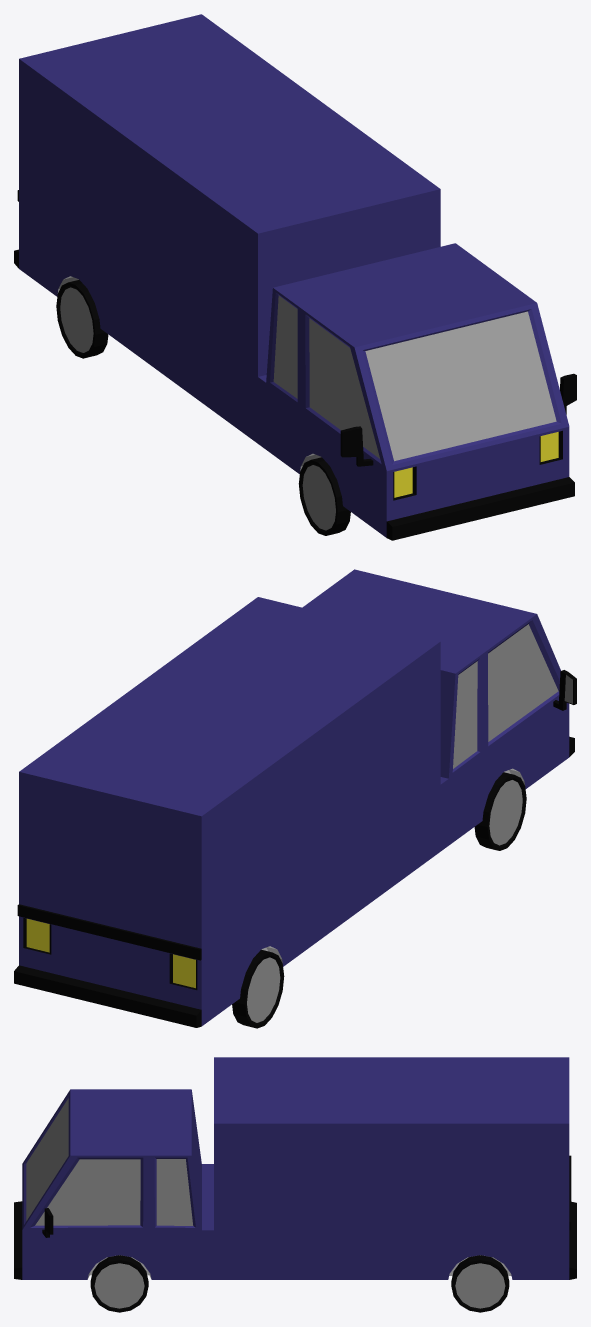
File: Delivery Truck 2.fbx
The picture shows the model from 3 angles, top to bottom: view 1: azimuth 30°, elevation 25°; view 2: azimuth 150°, elevation 25°; view 3: azimuth 270°, elevation 25°; orthographic projection. The views are drawn at different scales.
Visible parts, largest first — view 1: Delivery Truck Body.002, Wheel FR.020, Wheel RR.018; view 2: Delivery Truck Body.002, Wheel FR.020, Wheel RR.018; view 3: Delivery Truck Body.002, Wheel RL.018, Wheel FL.020.
Part boxes in pixels (x1,y1,x2,y2): Delivery Truck Body.002: (14, 14, 576, 540); Wheel FR.020: (298, 457, 350, 535); Wheel RR.018: (56, 280, 108, 358); Delivery Truck Body.002: (14, 569, 576, 1027); Wheel FR.020: (474, 772, 526, 850); Wheel RR.018: (232, 949, 284, 1028); Delivery Truck Body.002: (14, 1057, 576, 1279); Wheel RL.018: (451, 1255, 509, 1312); Wheel FL.020: (90, 1255, 148, 1312).
Bounding box in the file's own units: 1.91 × 1.96 × 5.34.
